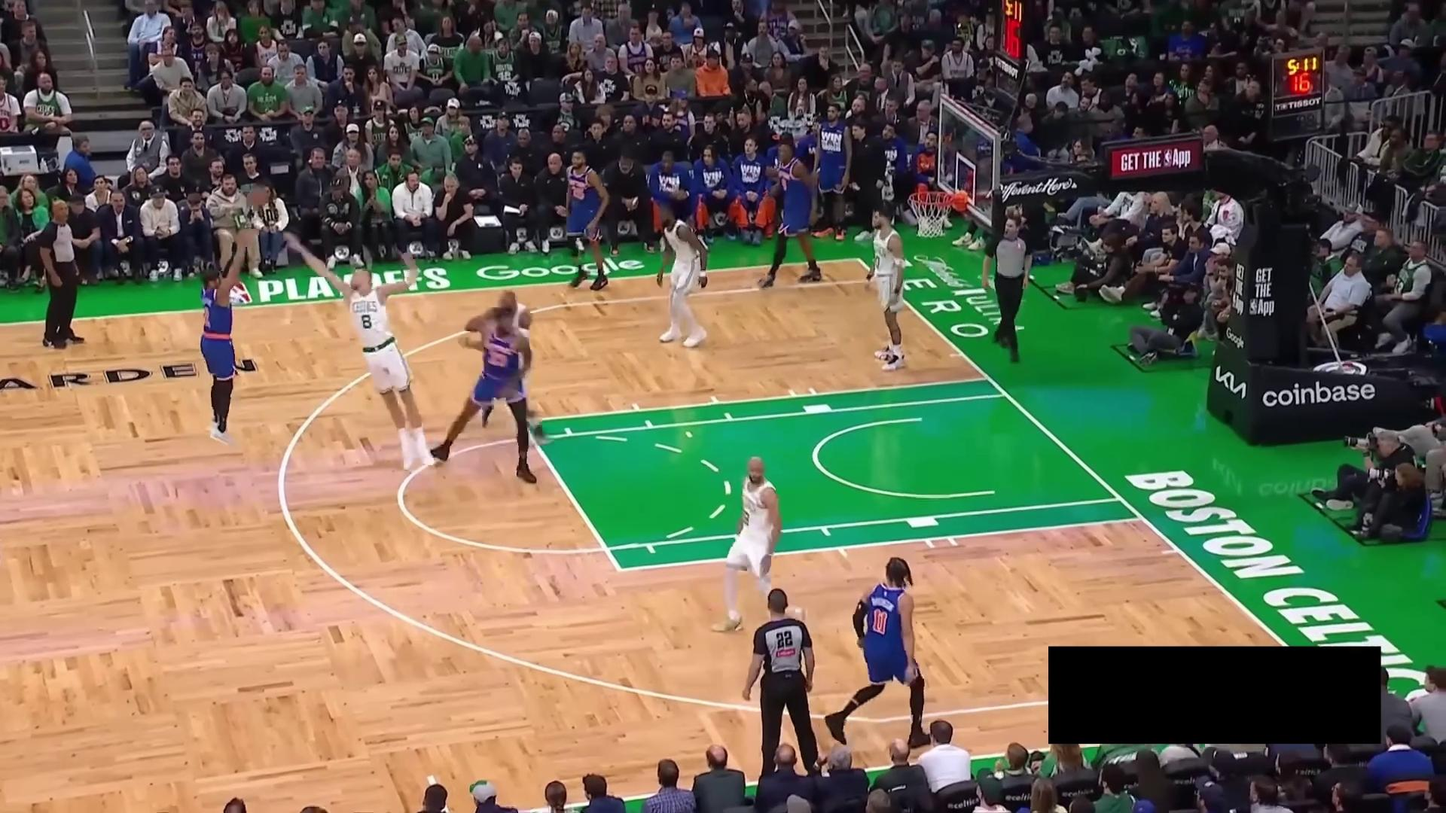ball: (246, 183, 270, 207)
number: (871, 607, 888, 638), (360, 313, 373, 330), (571, 185, 585, 200), (780, 177, 789, 190)
player: (824, 556, 932, 751), (427, 308, 539, 486), (464, 290, 556, 445), (711, 455, 783, 632), (755, 138, 823, 290), (655, 201, 709, 349), (863, 204, 908, 372), (562, 147, 610, 291)
player-jump-shot: (198, 224, 255, 449)
player-shot-block: (279, 228, 436, 474)
referee: (742, 586, 819, 780), (38, 199, 100, 349), (981, 212, 1035, 364)
rim: (908, 190, 954, 206)
